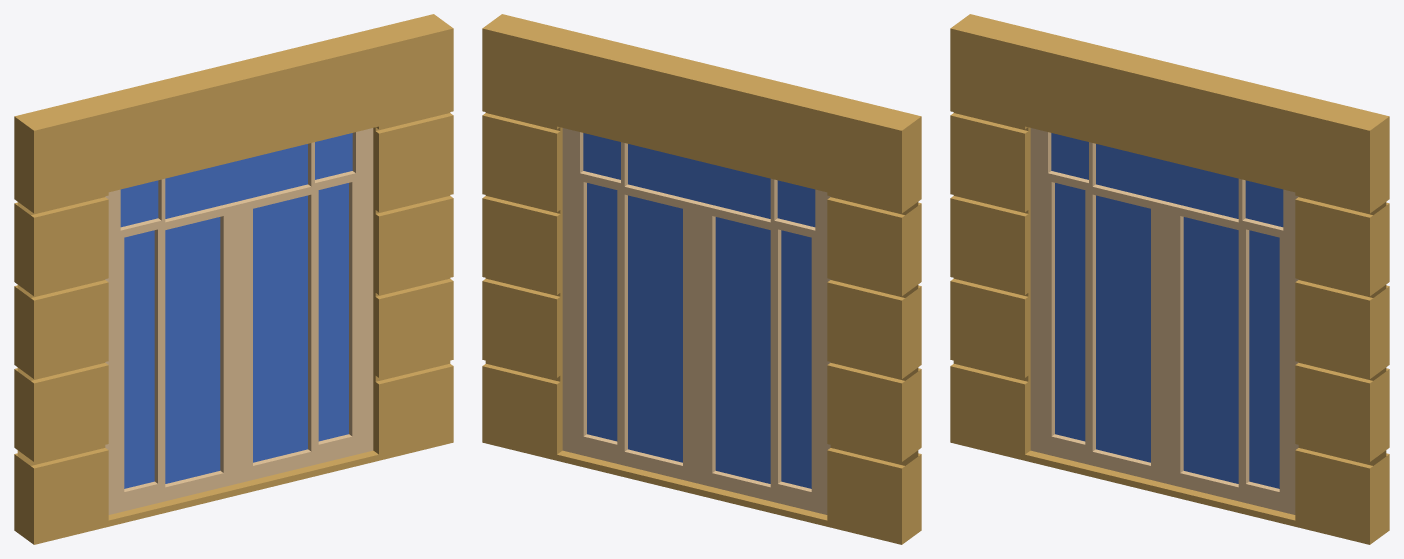
File: Window04_house5.fbx
The picture shows the model from 3 angles, left to right: view 1: azimuth 30°, elevation 25°; view 2: azimuth 150°, elevation 25°; view 3: azimuth 330°, elevation 25°; orthographic projection.
Parts seen in each view (by area): view 1: Window04_house05; view 2: Window04_house05; view 3: Window04_house05.
Part boxes in pixels (<box>): Window04_house05: <box>14,14,453,544</box>; Window04_house05: <box>482,14,921,544</box>; Window04_house05: <box>950,14,1389,544</box>.
Size of the model in its own units: 310 by 292 by 25.27.
